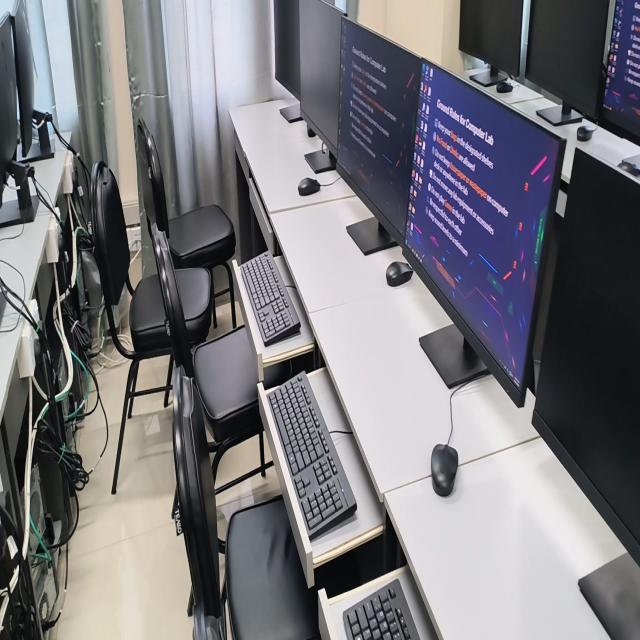Chair: (173, 361, 320, 639), (151, 223, 272, 491), (91, 162, 173, 493), (136, 119, 236, 328), (177, 268, 214, 347)
Keyboard: (266, 373, 356, 539), (241, 252, 300, 346), (343, 579, 419, 639)
Monitor: (405, 62, 559, 395), (533, 149, 640, 564), (337, 19, 422, 243), (525, 0, 610, 119), (300, 0, 343, 159), (603, 0, 640, 136), (459, 0, 522, 75), (10, 0, 34, 156), (0, 16, 18, 183), (274, 0, 300, 100)
Mouse: (431, 444, 458, 496), (386, 261, 413, 286), (299, 177, 320, 196), (577, 125, 594, 141), (496, 78, 513, 93)
